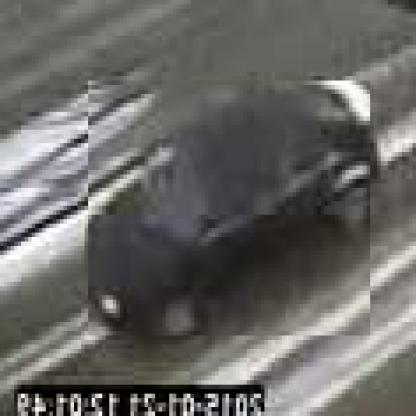car: (86, 81, 371, 341)
